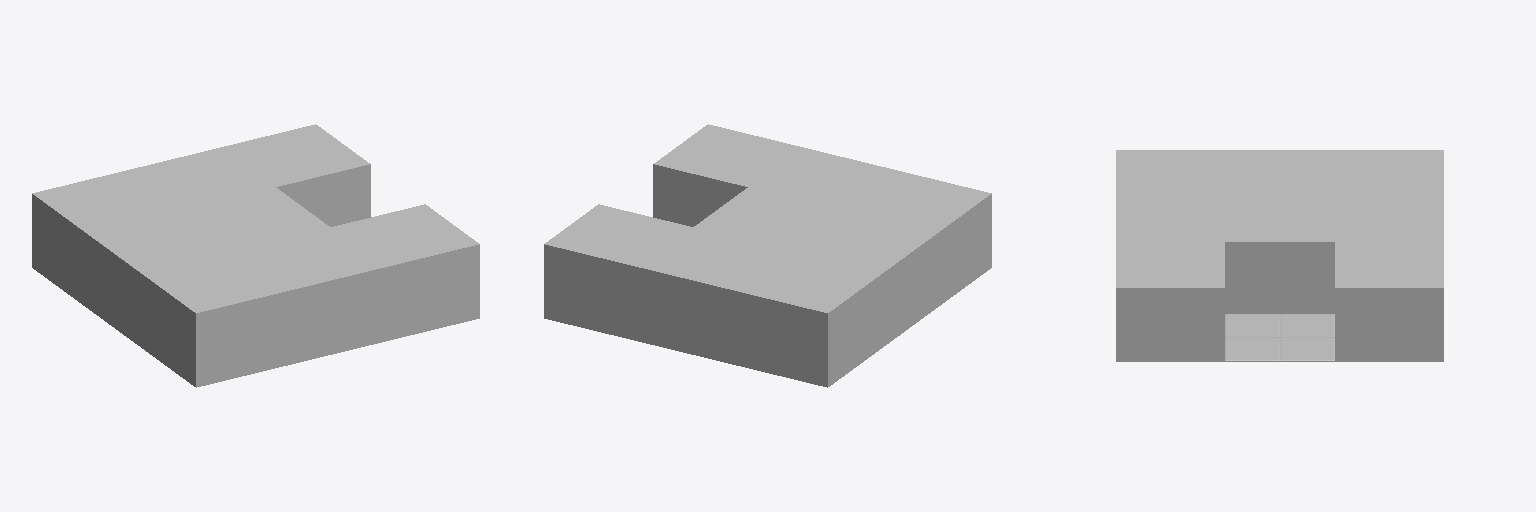
File: Corredor_Sin salida_tipo A_2.obj
The picture shows the model from 3 angles: view 1: azimuth 30°, elevation 25°; view 2: azimuth 150°, elevation 25°; view 3: azimuth 270°, elevation 25°; orthographic projection.
Parts seen in each view (by area): view 1: polySurface21; view 2: polySurface21; view 3: polySurface21.
Boxes of the visible parts, x1,y1,x2,y2 form: polySurface21: [32, 124, 479, 387]; polySurface21: [544, 124, 991, 387]; polySurface21: [1116, 150, 1443, 361].
Bounding box in the file's own units: 144 × 36 × 144.